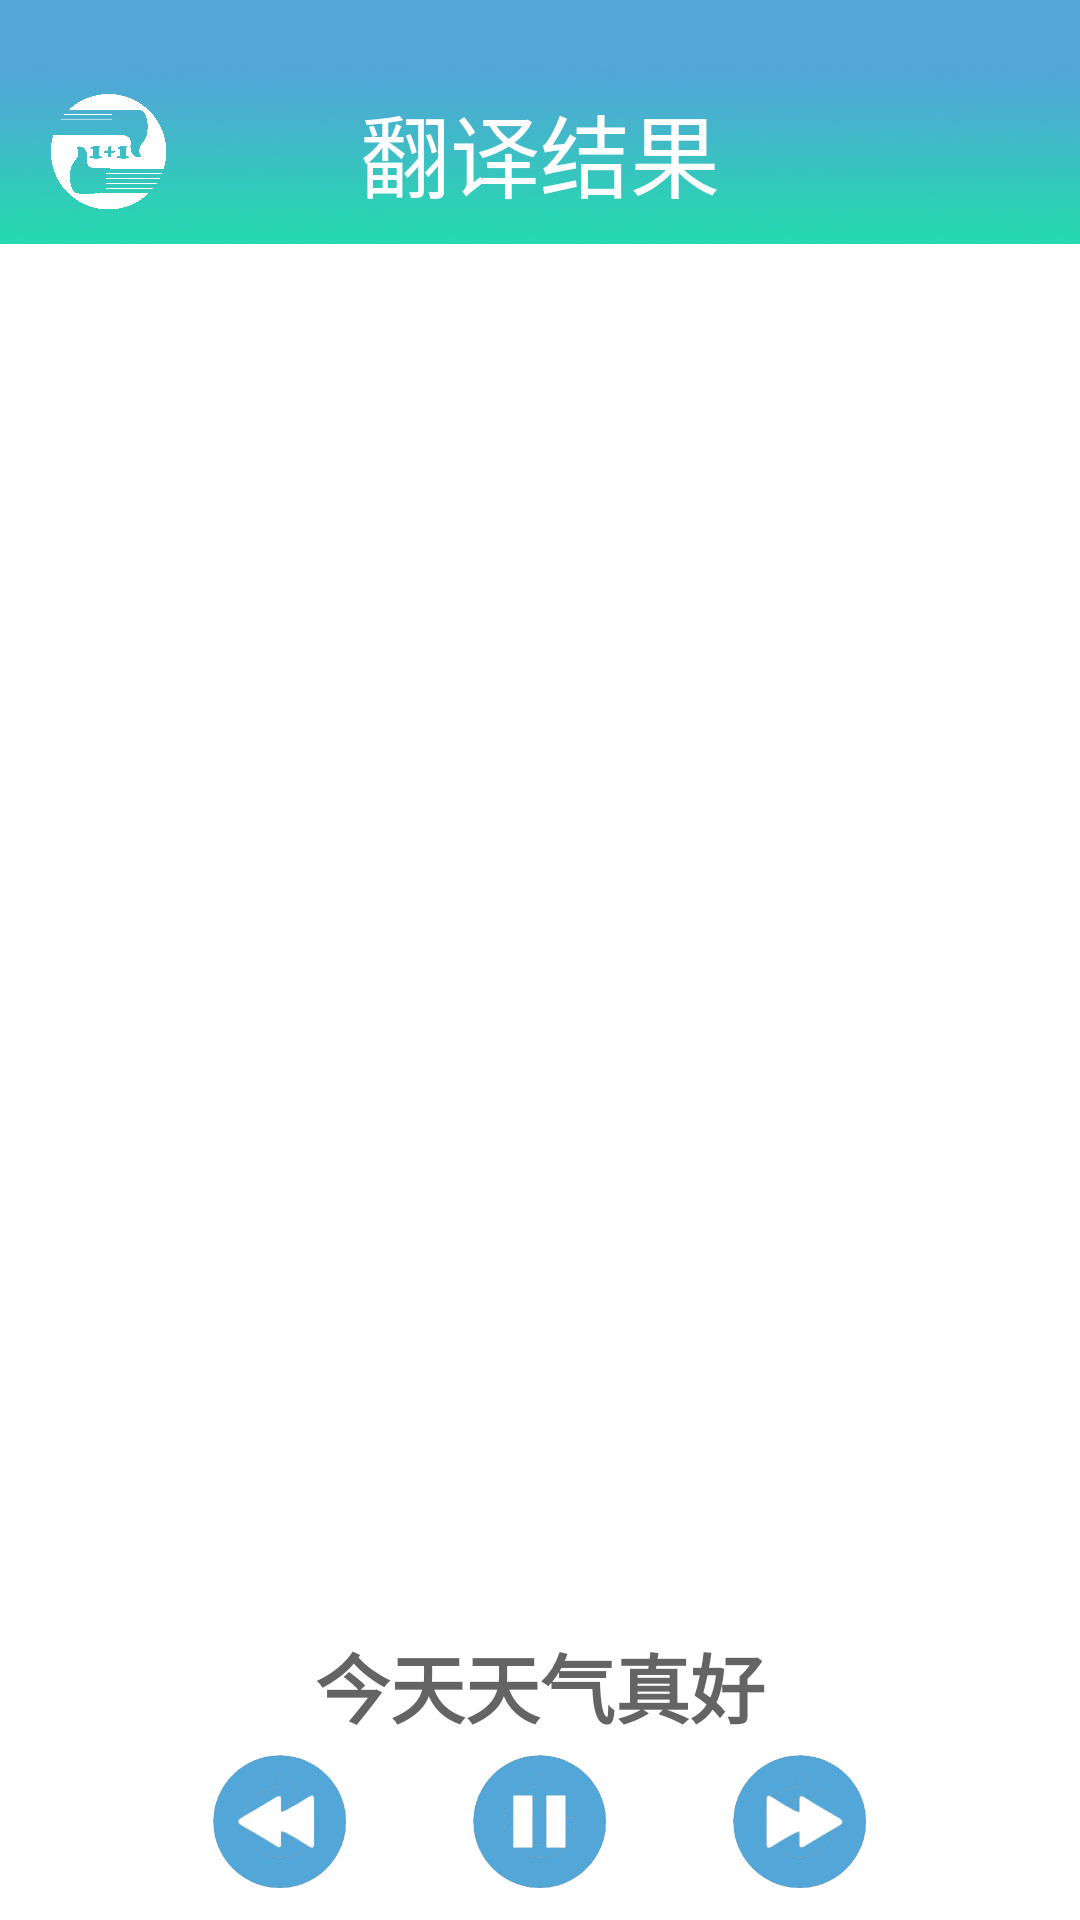

Where to tap for icons on this 1080px×1920px app screen, as (x,y):
last: (279,1821)
next: (799,1821)
